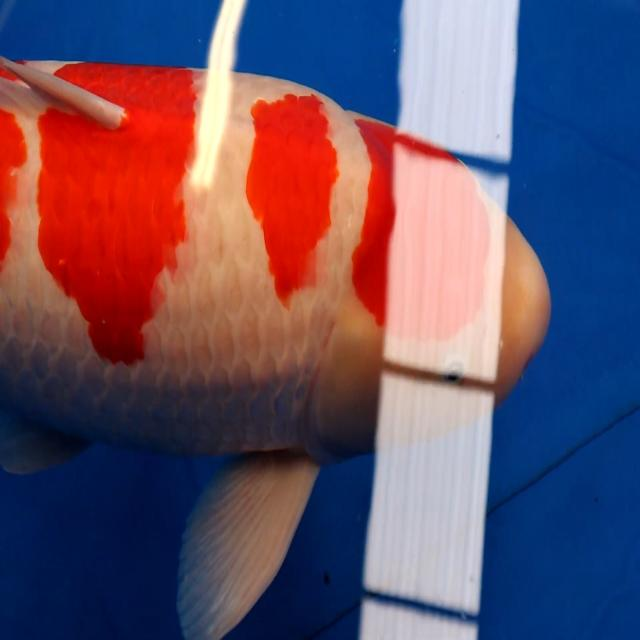Kohaku: (1, 52, 554, 637)
